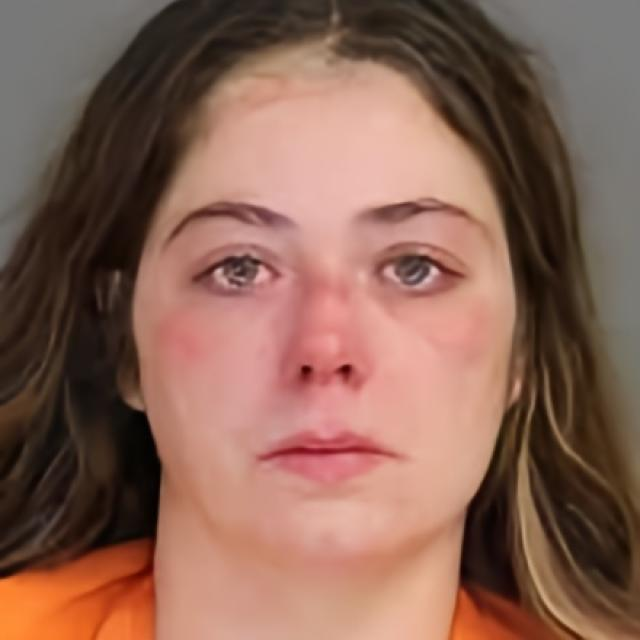sad: (134, 59, 518, 574)
